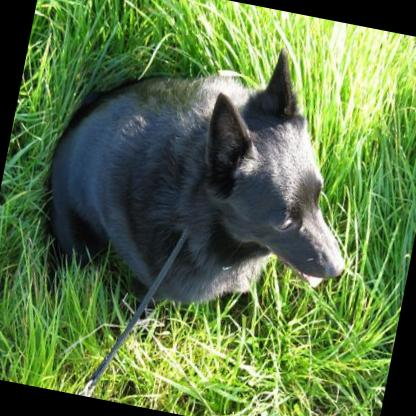schipperke: (28, 7, 380, 332)
